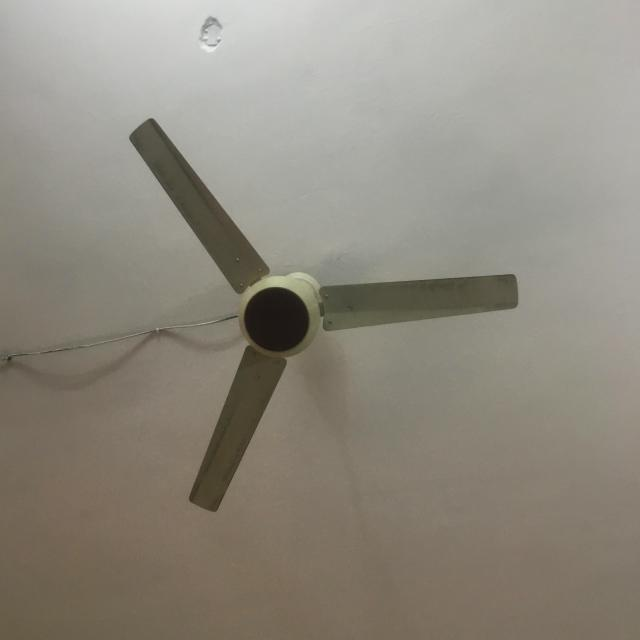off: (125, 106, 526, 517)
